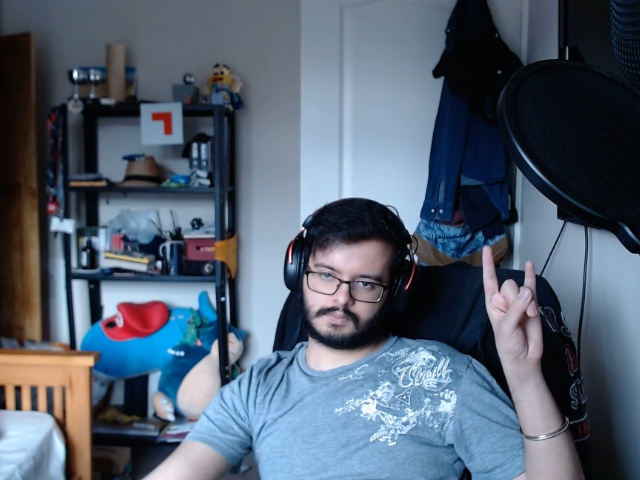Rock on: (477, 233, 554, 368)
